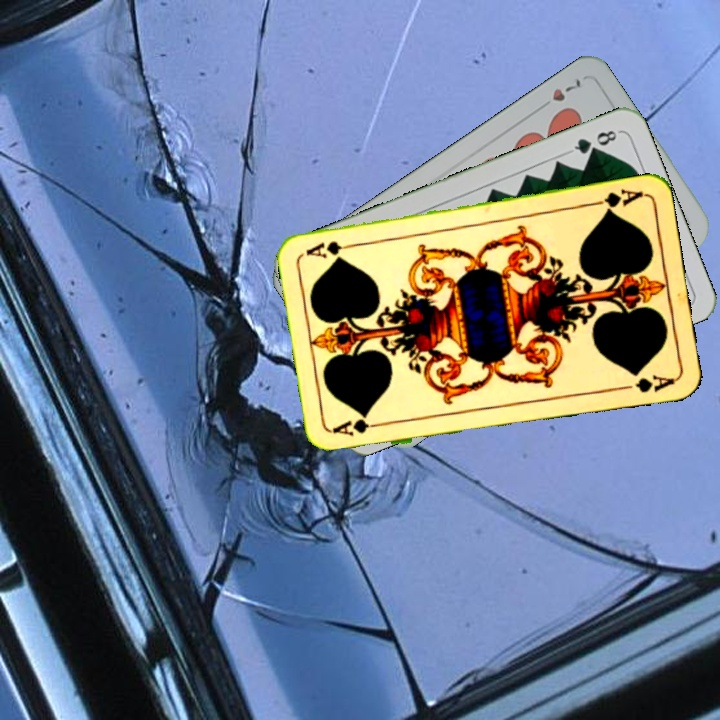G8: (565, 126, 622, 157)
GA: (587, 185, 646, 215), (329, 415, 389, 439)
H7: (534, 74, 584, 113)
